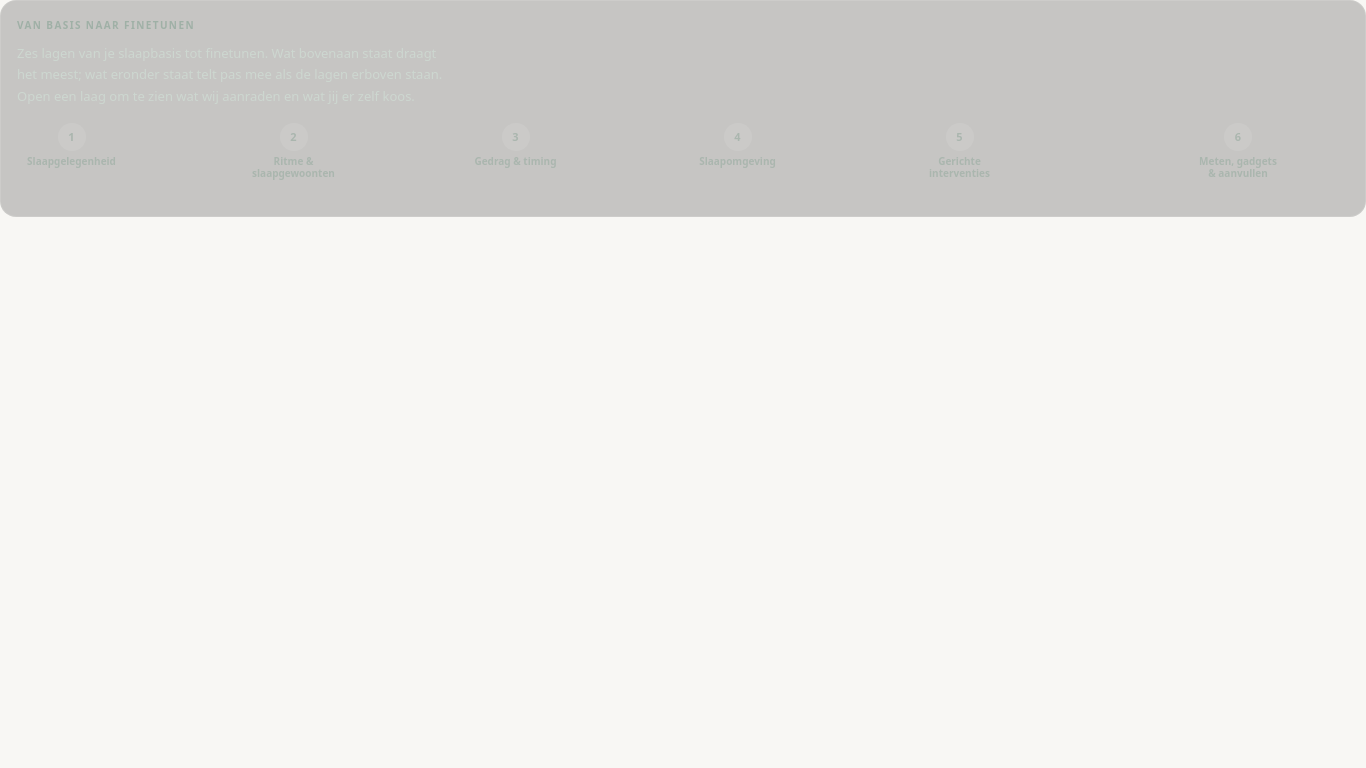
PrioriteitenLadder op echte domeindata › zet de zes slaaplagen neer en toont de acties van de laag die je opent
Expected: the tab "1 Slaapgelegenheid" is shown, [17,121,126,167]
Expected: the tab "3 Gedrag & timing" is shown, [461,121,570,167]
Click the tab "2 Ritme & slaapgewoonten" at (294, 150), box [239,121,348,180]
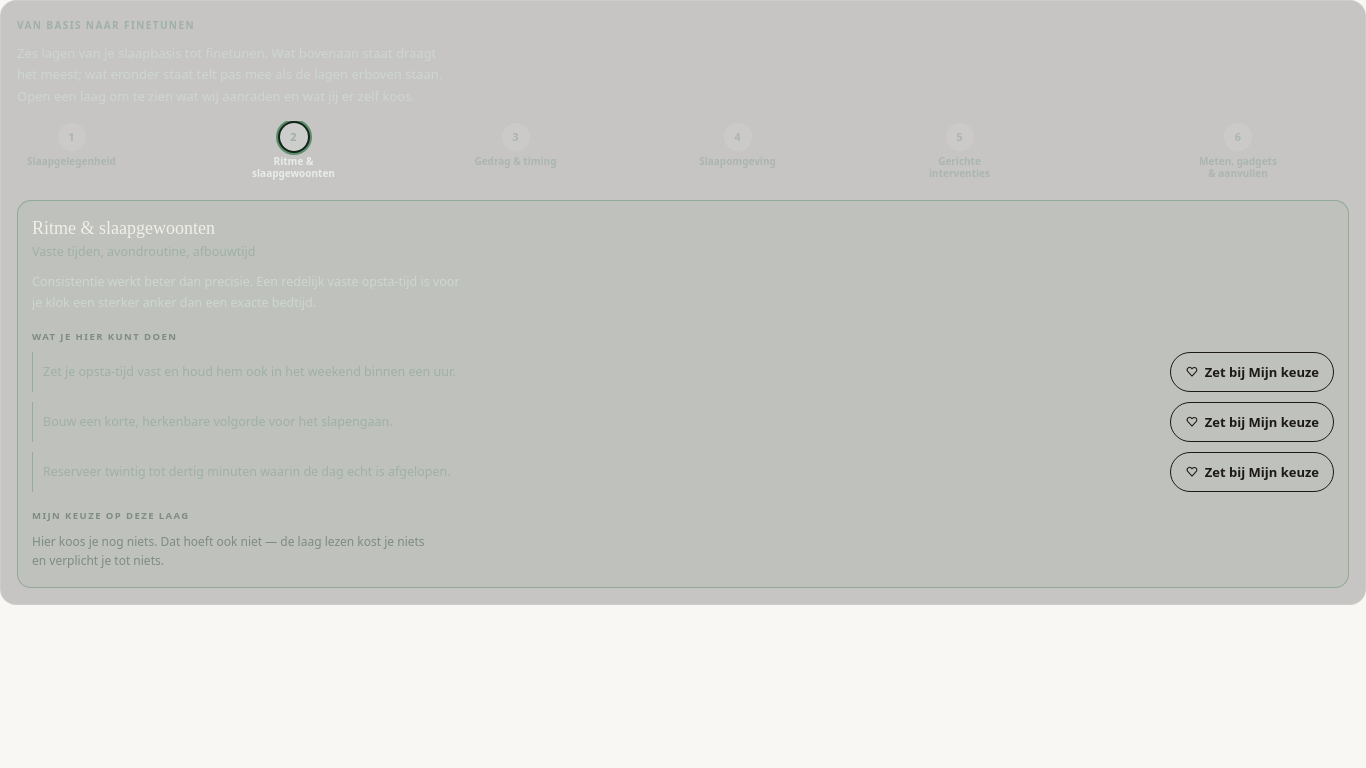
Now the text "Zet je opsta-tijd vast en houd hem ook in het weekend binnen een uur." is shown, box [43,363,456,380]
Now the text "Mijn keuze op deze laag" is shown, box [32,509,190,522]
